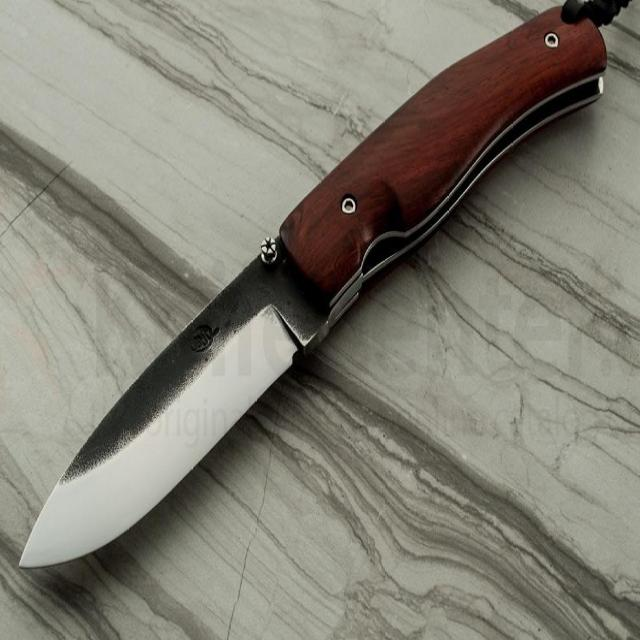knife: (13, 9, 612, 590)
